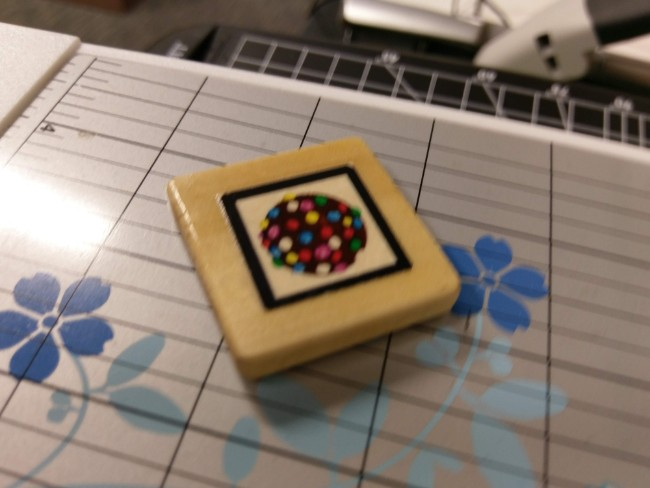cookie: (204, 154, 431, 337)
